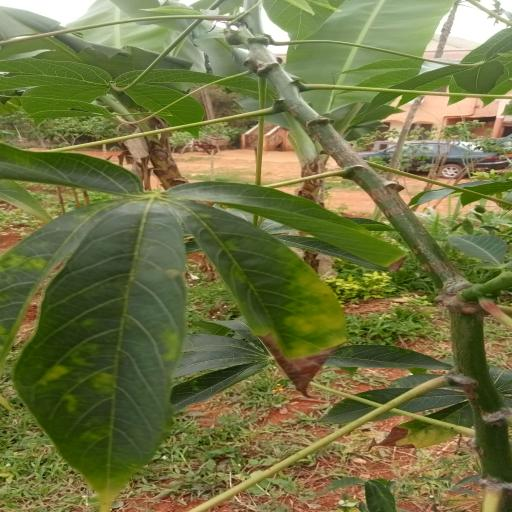Cassava_Root_Rot: (0, 165, 390, 492)
